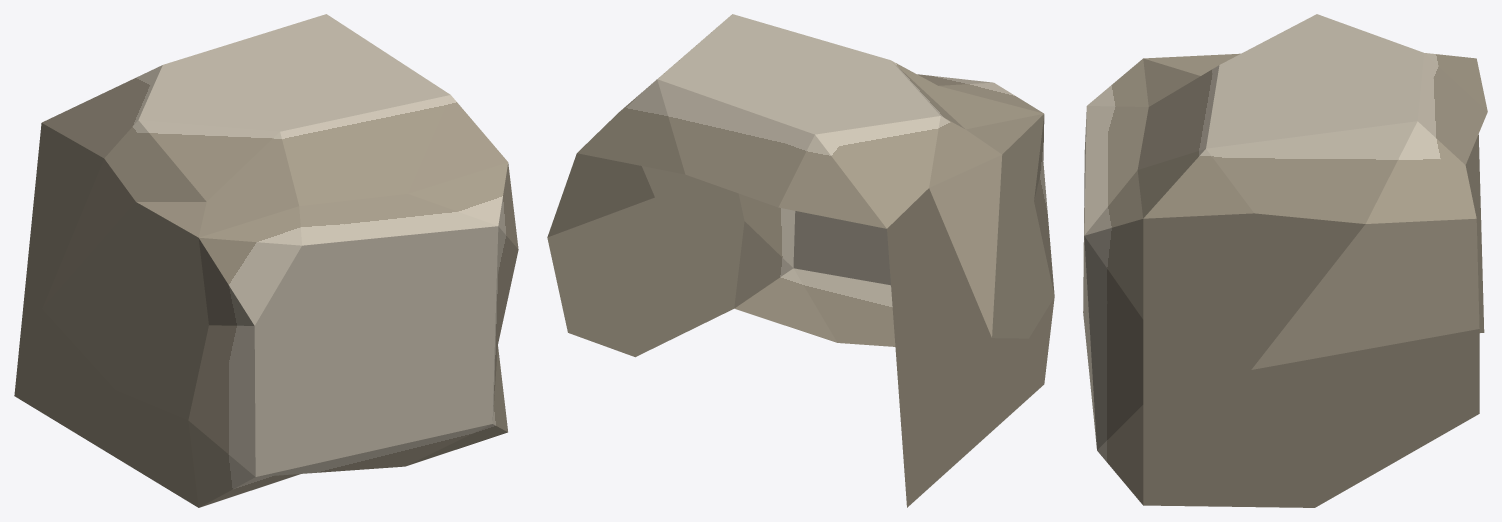
Rendered from Rock_02.fbx.
The picture shows the model from 3 angles, left to right: view 1: azimuth 30°, elevation 25°; view 2: azimuth 150°, elevation 25°; view 3: azimuth 270°, elevation 25°; orthographic projection. The views are drawn at different scales.
Visible parts, largest first — view 1: Rock_02; view 2: Rock_02; view 3: Rock_02.
Part boxes in pixels (<box>): Rock_02: <box>14,14,518,507</box>; Rock_02: <box>547,14,1054,507</box>; Rock_02: <box>1083,14,1487,507</box>.
Size of the model in its own units: 61.04 by 51.7 by 51.7.
1 material, 1 textured.
